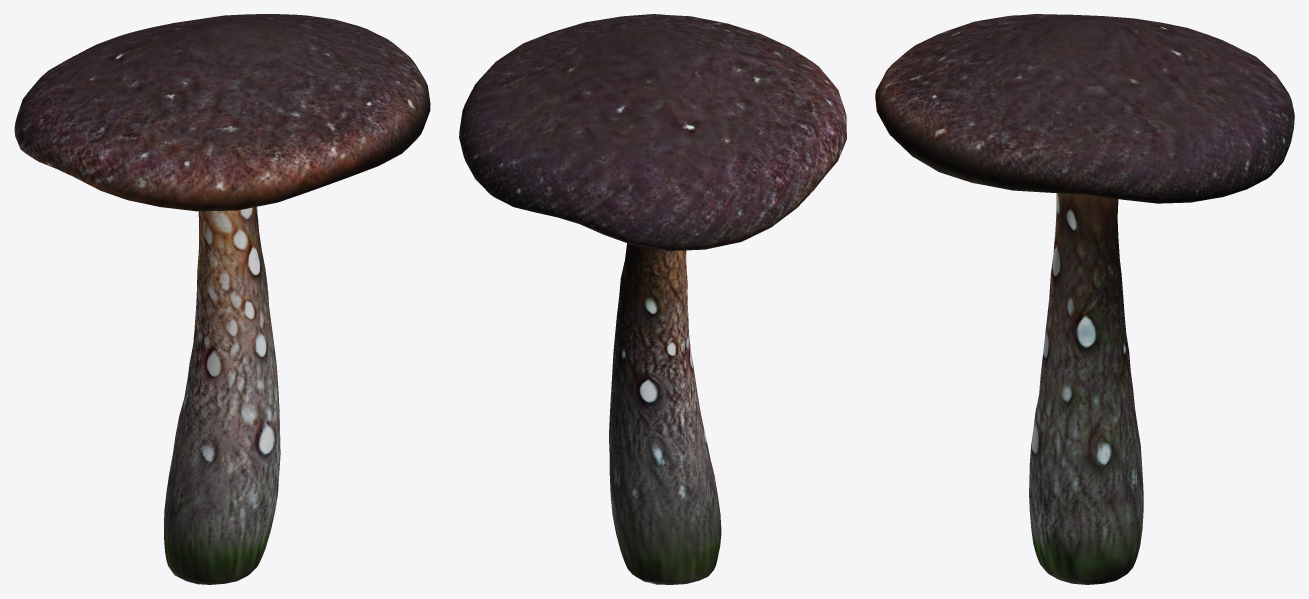
The model's file is 29dfb08933ba_61fd6434d4f2_tall_thin_mushroom_.glb.
3 renders of one model, left to right at view 1: azimuth 30°, elevation 25°; view 2: azimuth 150°, elevation 25°; view 3: azimuth 270°, elevation 25°, orthographic. The views are drawn at different scales.
Visible parts, largest first — view 1: mesh; view 2: mesh; view 3: mesh.
Part boxes in pixels (x1=…): mesh: x1=14, y1=14, x2=430, y2=584; mesh: x1=459, y1=14, x2=846, y2=584; mesh: x1=875, y1=14, x2=1294, y2=584.
Bounding box in the file's own units: 0.6706 × 0.9996 × 0.6889.
Materials: 1 (1 with a texture image).
